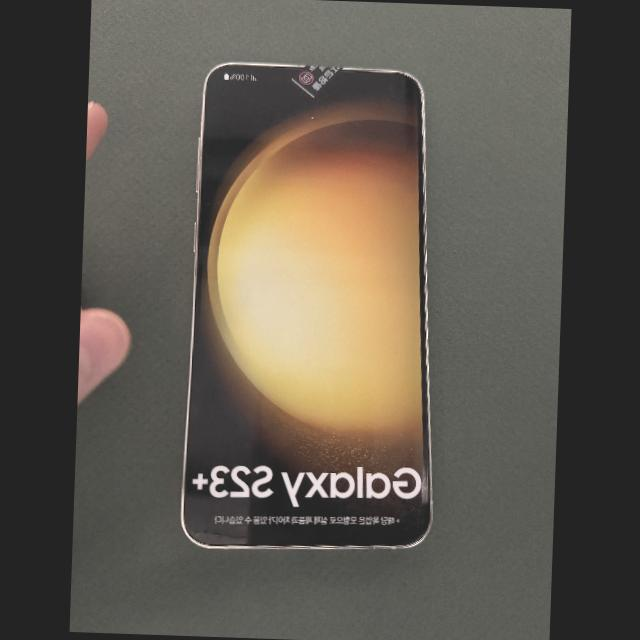phone: (181, 62, 432, 548)
sticker: (291, 65, 344, 99)
